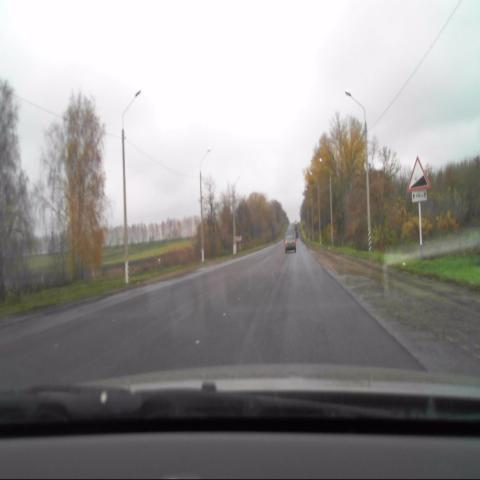1_14: (407, 154, 430, 189)
